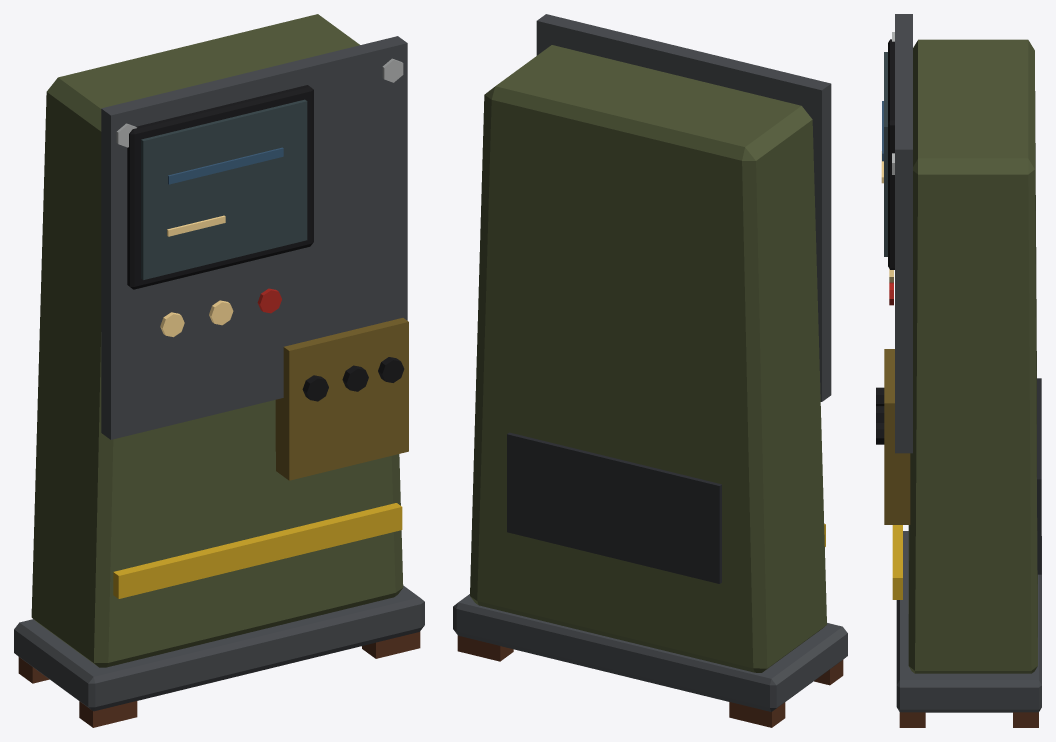
File: piece_console.fbx
The picture shows the model from 3 angles, left to right: view 1: azimuth 30°, elevation 25°; view 2: azimuth 150°, elevation 25°; view 3: azimuth 270°, elevation 25°; orthographic projection. The views are drawn at different scales.
Parts seen in each view (by area): view 1: piece_console; view 2: piece_console; view 3: piece_console.
Part boxes in pixels (bbox=[...]): piece_console: bbox=[14, 14, 424, 727]; piece_console: bbox=[453, 14, 847, 727]; piece_console: bbox=[876, 14, 1041, 727].
Bounding box in the file's own units: 0.76 × 1.32 × 0.3467.
